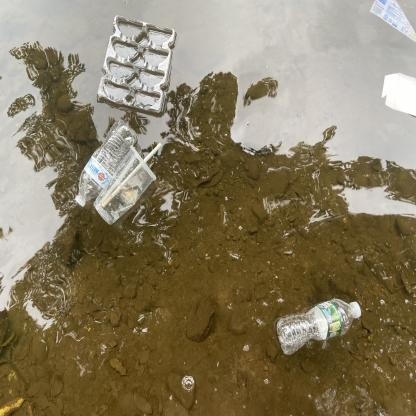trash: (92, 13, 182, 118), (68, 119, 143, 212), (91, 138, 167, 228), (273, 291, 365, 360), (370, 0, 416, 53), (378, 67, 416, 118)
